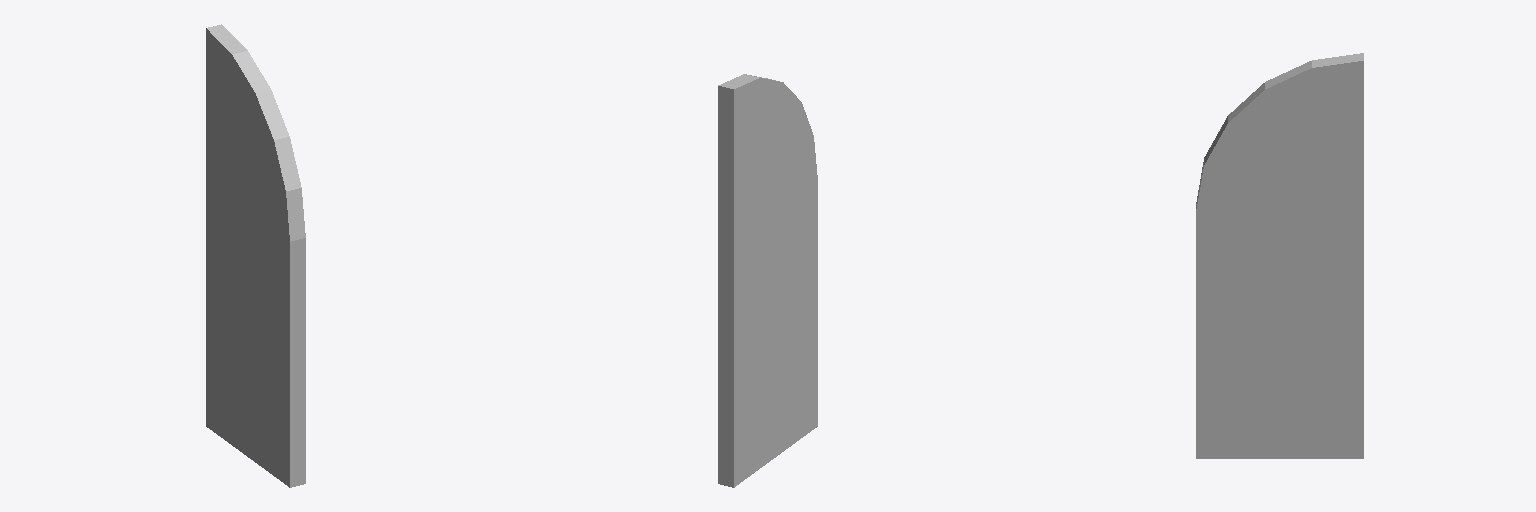
File: Puerta2.obj
The picture shows the model from 3 angles: view 1: azimuth 30°, elevation 25°; view 2: azimuth 150°, elevation 25°; view 3: azimuth 270°, elevation 25°; orthographic projection.
Visible parts, largest first — view 1: Cajaregistradora:polySurface31; view 2: Cajaregistradora:polySurface31; view 3: Cajaregistradora:polySurface31.
Part boxes in pixels (left/top/right/bottom): Cajaregistradora:polySurface31: left=206, top=24, right=305, bottom=487; Cajaregistradora:polySurface31: left=718, top=74, right=817, bottom=487; Cajaregistradora:polySurface31: left=1196, top=53, right=1363, bottom=458.
Size of the model in its own units: 0.5336 by 12.74 by 4.87.